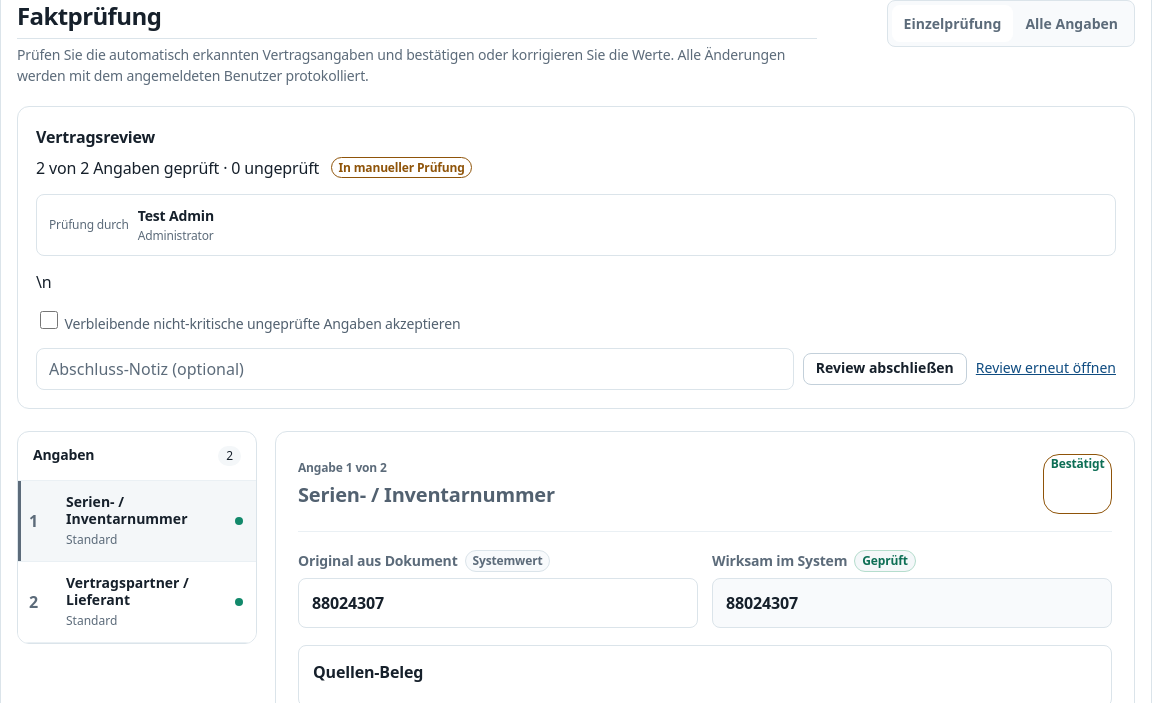
Test: Faktprüfung – Anzeige Bestätigt vs Korrigiert › zeigt confirmed als Bestätigt und corrected als Korrigiert – getrennt, mit Prüfer und Zeit
Expected: the heading "Serien- / Inventarnummer" is shown, [298,482,555,508]
Expected: the text "Bestätigt" is shown, [1043,454,1112,514]
Click the button "2 Vertragspartner / Lieferant Standard" at (137,602), box [18,562,256,643]
(page scrolled)
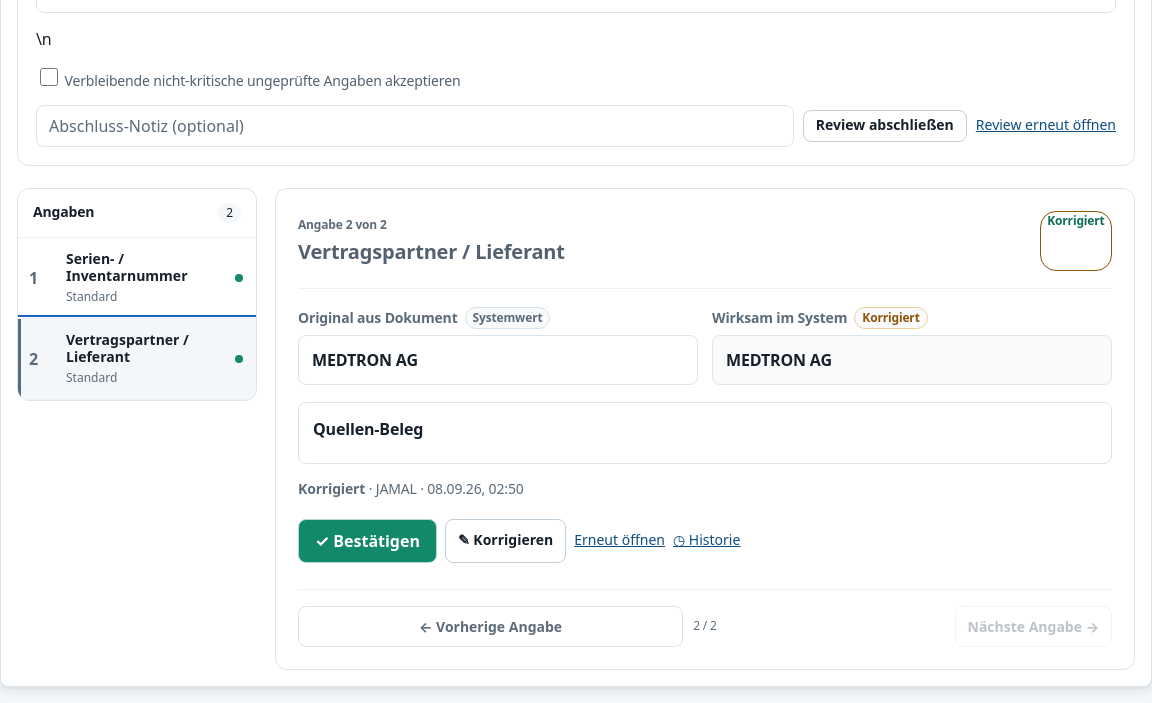
Expected: the text "Korrigiert · JAMAL · 08.09.26, 02:50" is shown, [298,479,524,498]
Now the heading "Vertragspartner / Lieferant" is shown, box [298,239,565,265]
Now the 1st text "Korrigiert" is shown, box [1040,211,1112,271]
